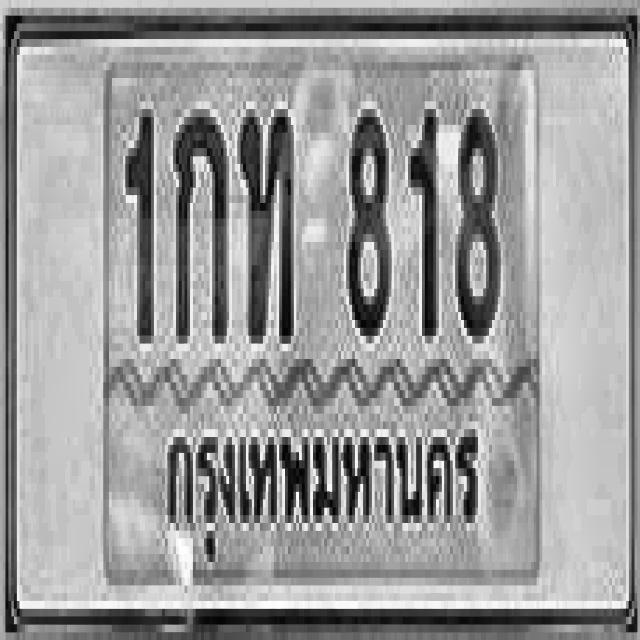license-plate: (12, 27, 632, 610)
